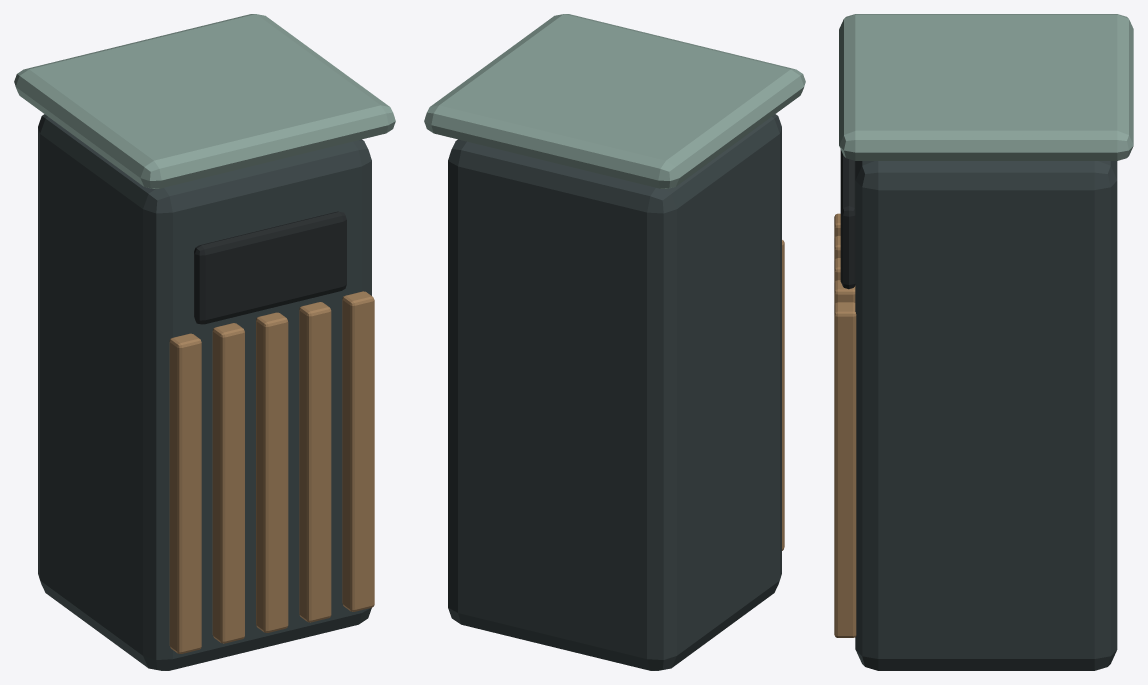
The model's file is site-street-bin.glb.
3 views of the same model, side by side, from view 1: azimuth 30°, elevation 25°; view 2: azimuth 150°, elevation 25°; view 3: azimuth 270°, elevation 25° (orthographic). The views are drawn at different scales.
Visible parts, largest first — view 1: site-street-bin_Anthracite_anodized_metal, site-street-bin_Weathered_warm_teak, site-street-bin_Sage_ceramic_cladding, site-street-bin_Rubber_gaskets_and_feet; view 2: site-street-bin_Anthracite_anodized_metal, site-street-bin_Sage_ceramic_cladding, site-street-bin_Weathered_warm_teak; view 3: site-street-bin_Anthracite_anodized_metal, site-street-bin_Sage_ceramic_cladding, site-street-bin_Weathered_warm_teak, site-street-bin_Rubber_gaskets_and_feet.
Part boxes in pixels (x1,y1,x2,y2): site-street-bin_Anthracite_anodized_metal: [38, 114, 371, 670]; site-street-bin_Weathered_warm_teak: [169, 291, 374, 653]; site-street-bin_Sage_ceramic_cladding: [14, 14, 395, 188]; site-street-bin_Rubber_gaskets_and_feet: [194, 211, 346, 324]; site-street-bin_Anthracite_anodized_metal: [448, 114, 781, 670]; site-street-bin_Sage_ceramic_cladding: [424, 14, 805, 188]; site-street-bin_Weathered_warm_teak: [782, 240, 784, 550]; site-street-bin_Anthracite_anodized_metal: [855, 161, 1117, 670]; site-street-bin_Sage_ceramic_cladding: [839, 14, 1133, 160]; site-street-bin_Weathered_warm_teak: [834, 213, 856, 637]; site-street-bin_Rubber_gaskets_and_feet: [840, 149, 855, 289].
Size of the model in its own units: 0.47 by 0.925 by 0.4575.
